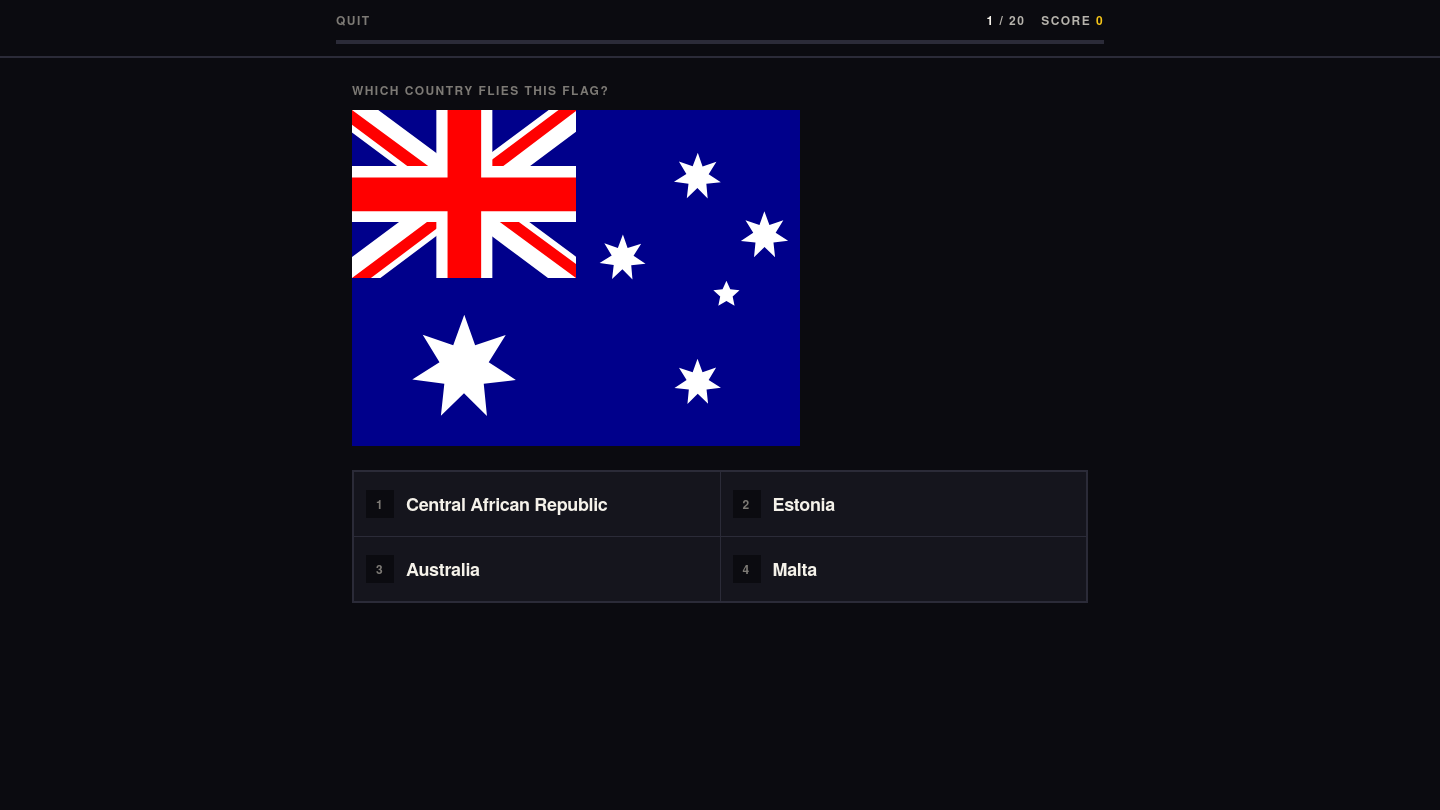
Test: PlayScreen — flag → country › marks a correct answer with an icon as well as colour (§10)
The width and height of the screenshot is (1440, 810).
Click the button "3 Australia".
click(443, 569)  # box x1=354 y1=537 x2=720 y2=601
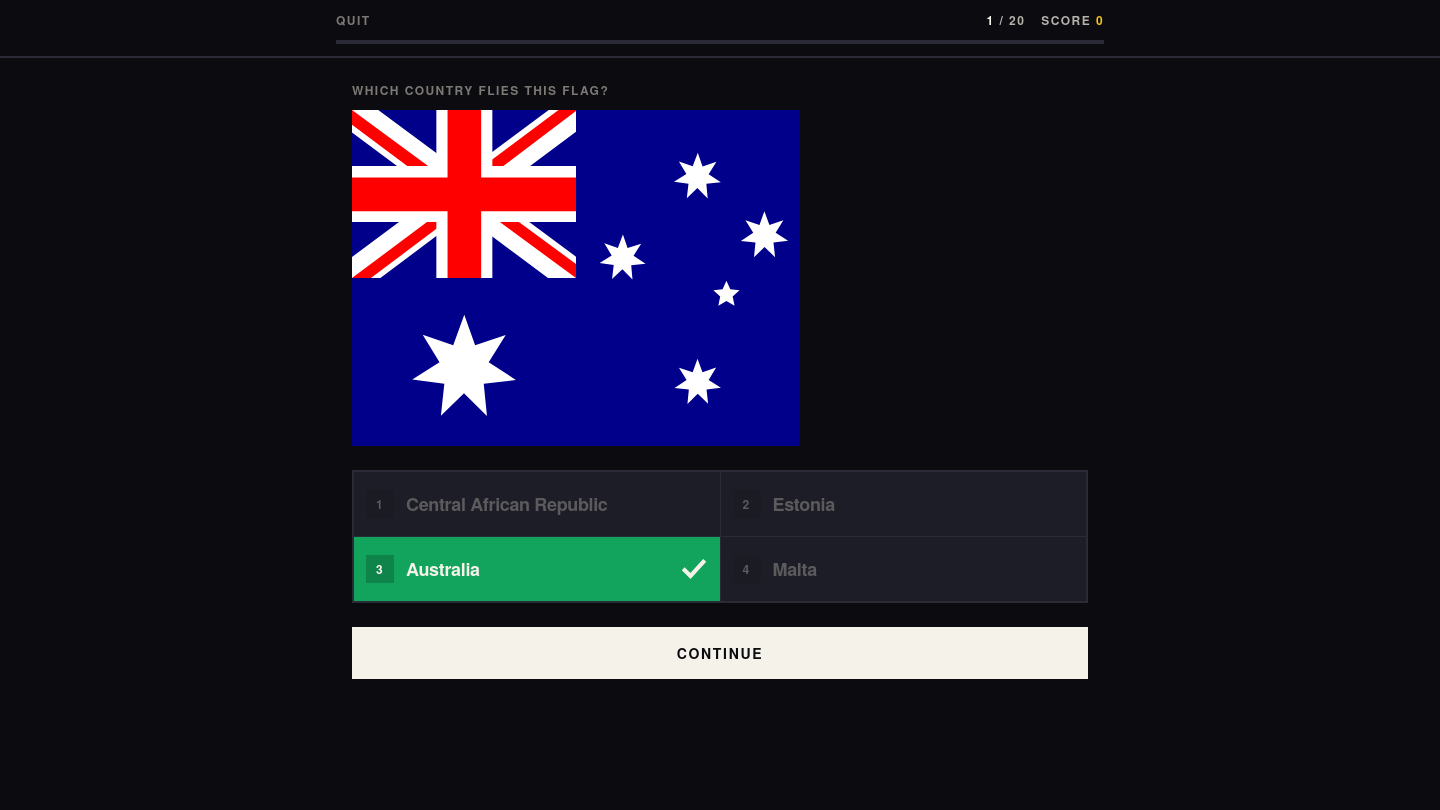
Expected: the picture named "Correct" is shown, x1=680 y1=555 x2=708 y2=583
